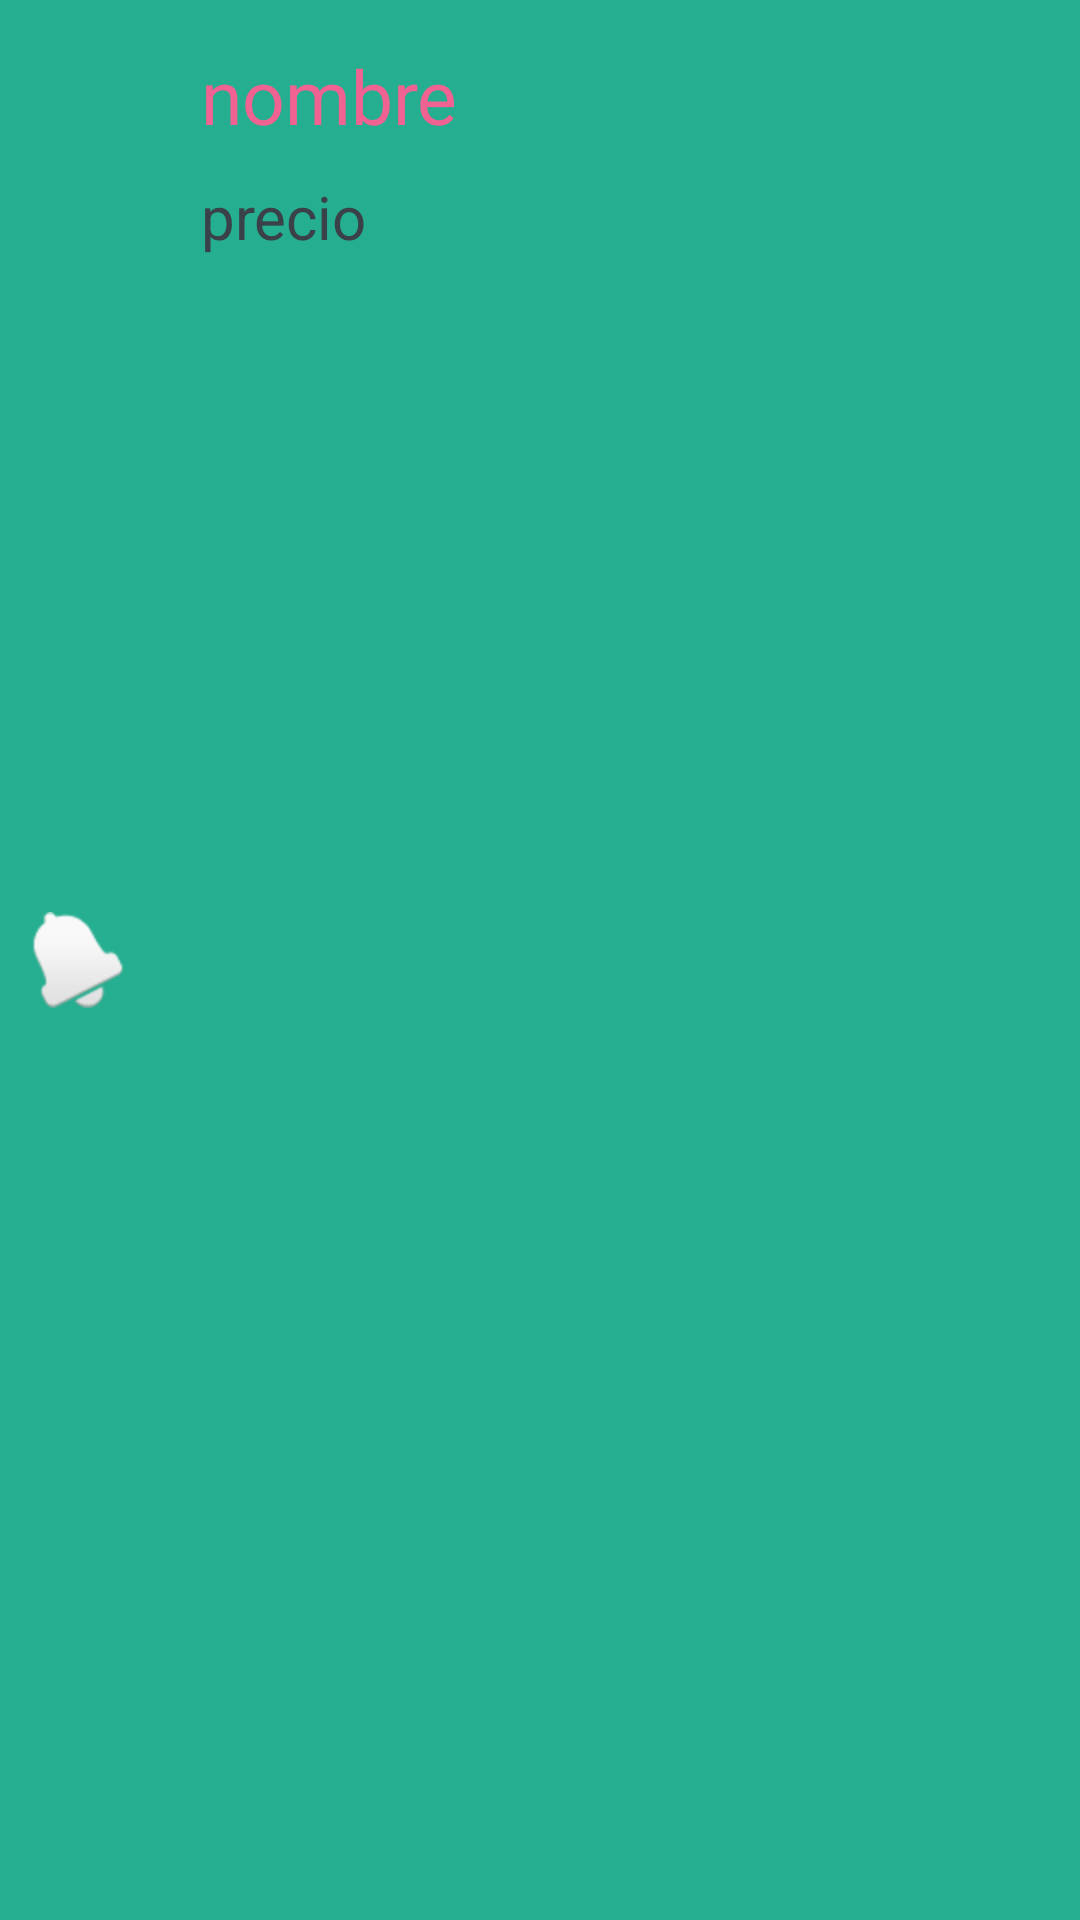

Named icons in this screenshot (1080x1920) and their centers, [x,y]:
popup reminder: [78,960]
